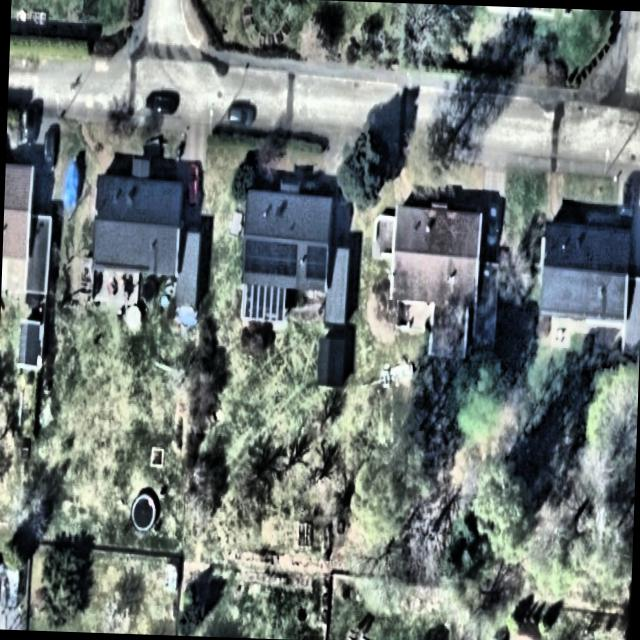roof_pv: (242, 240, 300, 278), (304, 242, 326, 285)
